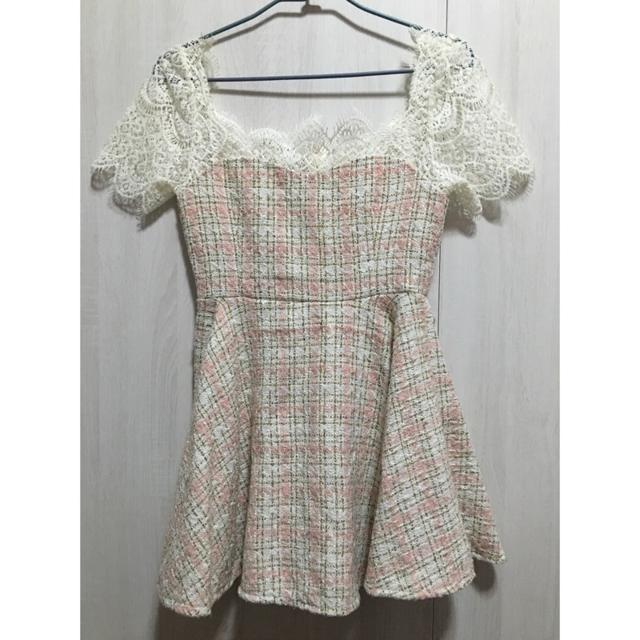Dresses: (92, 28, 537, 617)
